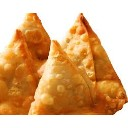samosa: (65, 13, 128, 102), (43, 40, 95, 115), (1, 28, 40, 109), (20, 13, 53, 56)
